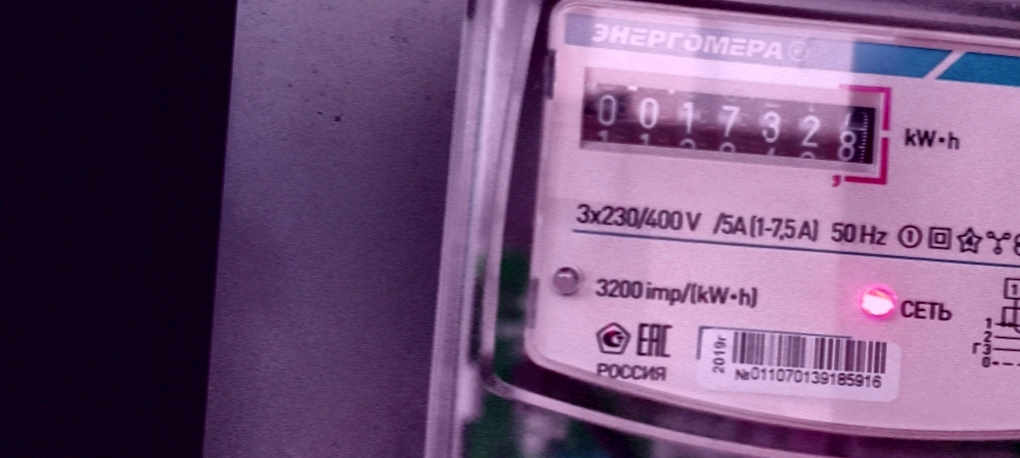0: (595, 89, 620, 128), (637, 94, 659, 129)
1: (679, 97, 697, 134)
2: (797, 112, 821, 149)
3: (758, 108, 783, 144)
7: (715, 100, 742, 139)
8: (834, 126, 857, 162)
screen: (568, 63, 897, 187)
